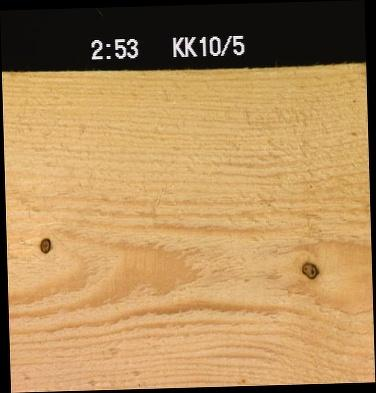dry_knot: (300, 260, 320, 280), (37, 236, 52, 254)
